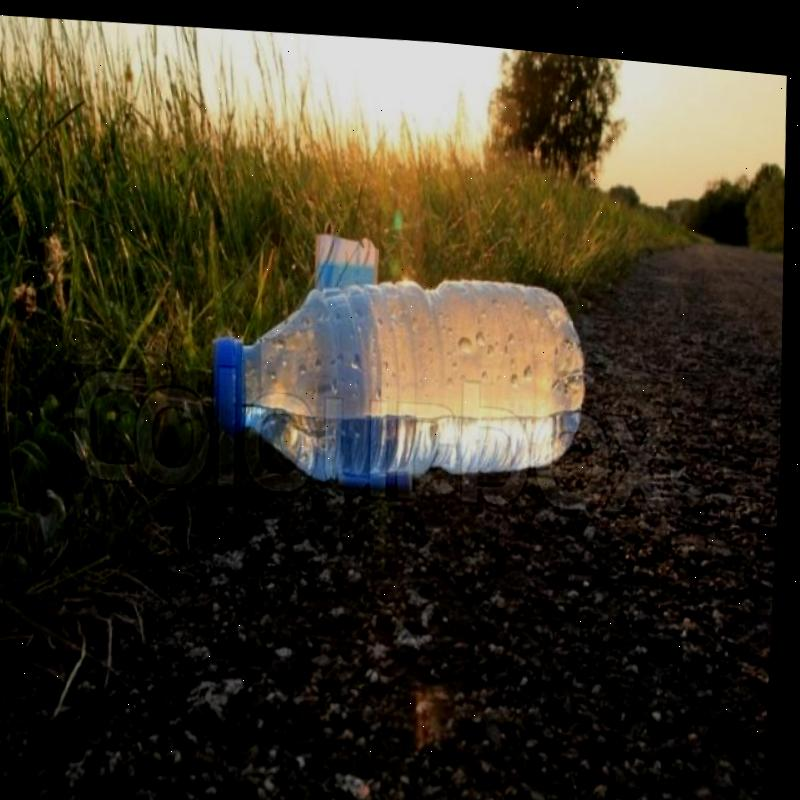botella: (204, 244, 596, 498)
